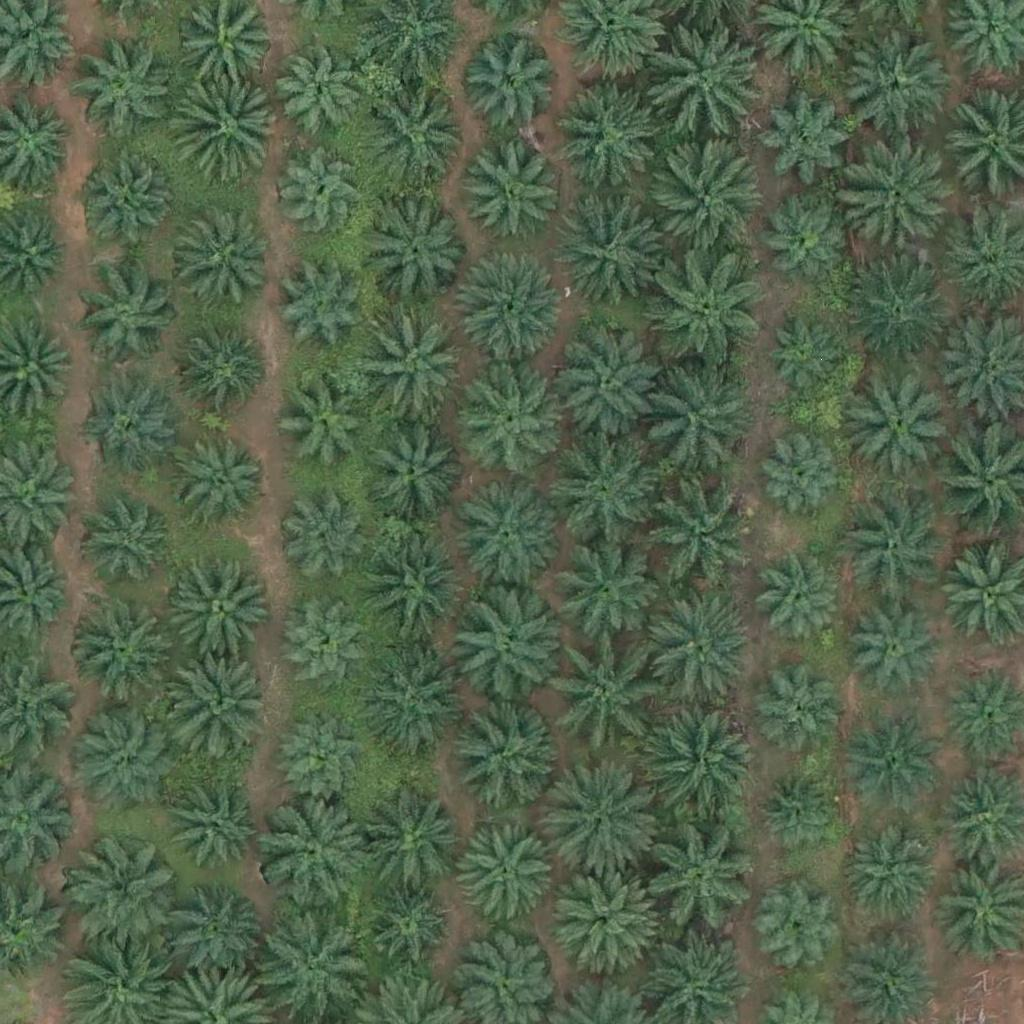Kelapa_Sawit: (549, 768, 662, 882), (837, 34, 950, 148), (555, 191, 668, 305), (647, 590, 760, 703), (643, 709, 756, 822), (636, 825, 749, 938), (443, 594, 556, 707), (251, 899, 364, 1012), (63, 704, 176, 817), (63, 823, 176, 936), (654, 146, 767, 259), (548, 327, 661, 440), (555, 81, 668, 194), (454, 253, 567, 366), (360, 315, 473, 428), (358, 73, 471, 186), (254, 797, 366, 911), (64, 597, 176, 711), (649, 251, 761, 365), (358, 529, 470, 643), (169, 72, 281, 186), (549, 863, 661, 976), (556, 638, 668, 751), (441, 699, 553, 812), (359, 647, 471, 760), (356, 787, 468, 900), (167, 650, 279, 763), (845, 148, 957, 261), (844, 250, 956, 363), (845, 369, 957, 482), (834, 490, 946, 603), (651, 29, 763, 142), (640, 361, 752, 474), (645, 471, 757, 584), (547, 526, 659, 639), (546, 435, 658, 548), (453, 482, 565, 595), (162, 551, 274, 664), (840, 819, 940, 920), (455, 825, 555, 926), (165, 882, 265, 983), (169, 769, 269, 870), (757, 91, 857, 192), (457, 36, 557, 137), (465, 140, 565, 241), (461, 377, 561, 478), (357, 421, 457, 522), (368, 204, 468, 305), (167, 429, 267, 530), (72, 44, 172, 145), (74, 154, 174, 255), (79, 498, 179, 599), (847, 593, 947, 693), (842, 722, 942, 822), (168, 207, 268, 307), (77, 264, 177, 364), (77, 388, 177, 488), (757, 877, 845, 965), (360, 883, 448, 971), (277, 713, 365, 801), (275, 52, 363, 140), (280, 378, 368, 466), (285, 498, 373, 586), (173, 323, 261, 411), (755, 769, 842, 857), (755, 664, 842, 752), (758, 552, 845, 640), (758, 428, 845, 516), (769, 195, 856, 283), (277, 149, 364, 237), (278, 268, 365, 356), (280, 603, 367, 691), (767, 318, 842, 394)
